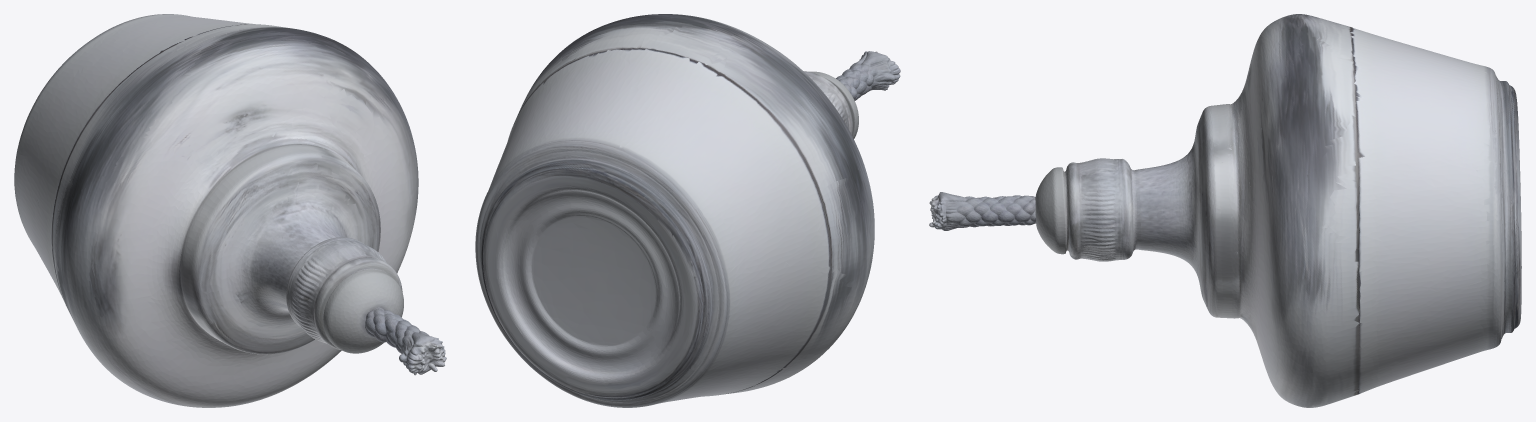
Rendered from alcohol_lamp.obj.
3 views of the same model, side by side, from view 1: azimuth 30°, elevation 25°; view 2: azimuth 150°, elevation 25°; view 3: azimuth 270°, elevation 25° (orthographic). The views are drawn at different scales.
Visible parts, largest first — view 1: node_0; view 2: node_0; view 3: node_0.
Boxes of the visible parts, x1=… form: node_0: x1=14, y1=14, x2=446, y2=407; node_0: x1=475, y1=14, x2=900, y2=407; node_0: x1=929, y1=14, x2=1521, y2=407.
Size of the model in its own units: 0.5597 by 0.5577 by 0.8415.
